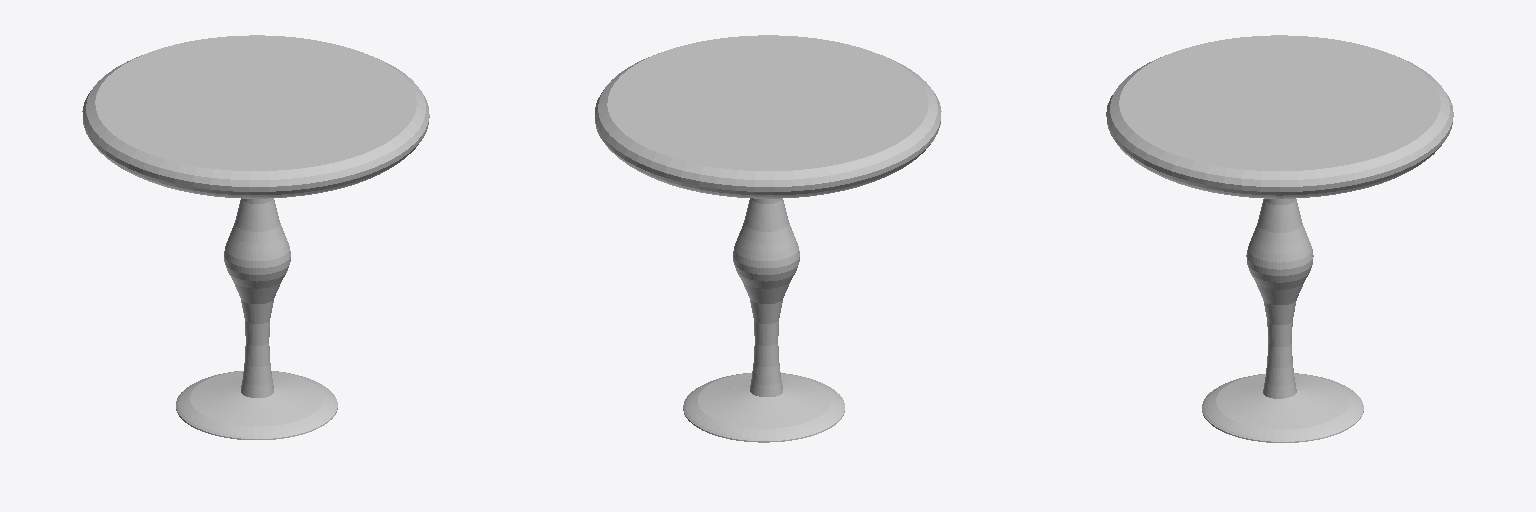
File: table_2.obj
The picture shows the model from 3 angles: view 1: azimuth 30°, elevation 25°; view 2: azimuth 150°, elevation 25°; view 3: azimuth 270°, elevation 25°; orthographic projection.
Size of the model in its own units: 114 by 111 by 114.